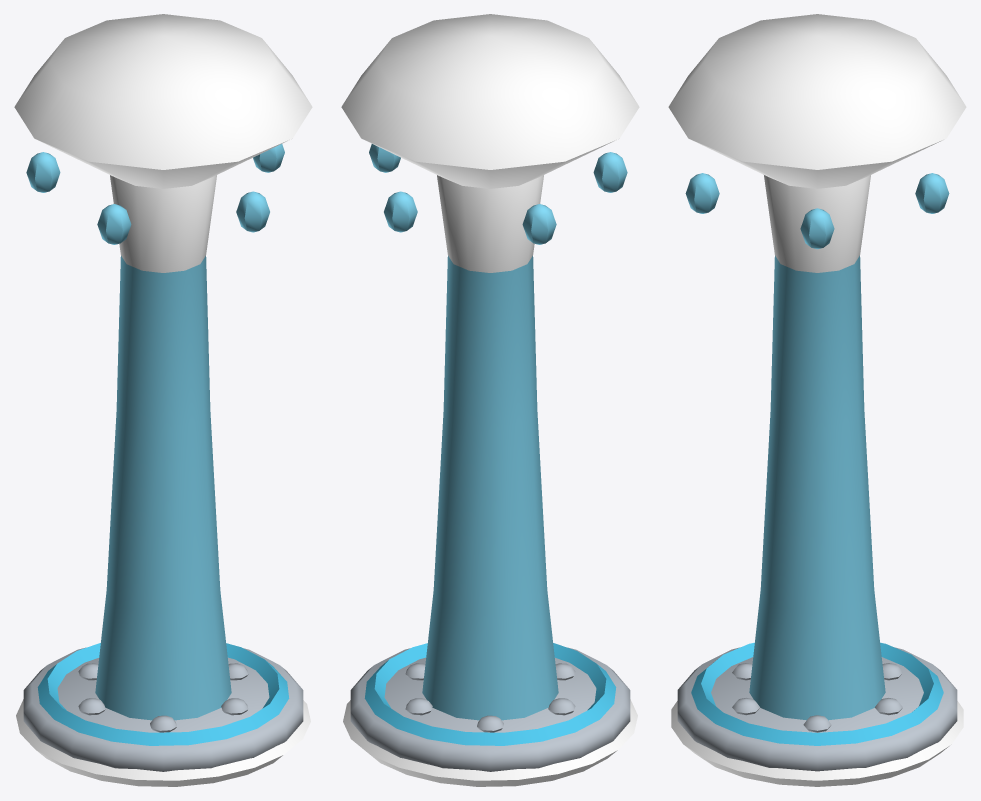
File: H27_Jet.fbx
3 renders of one model, left to right at view 1: azimuth 30°, elevation 25°; view 2: azimuth 150°, elevation 25°; view 3: azimuth 270°, elevation 25°, orthographic.
Parts seen in each view (by area): view 1: Jet, Static, Splash; view 2: Jet, Static, Splash; view 3: Jet, Static, Splash.
Part boxes in pixels (bbox=[...]): Jet: bbox=[14, 14, 312, 720]; Static: bbox=[23, 643, 303, 771]; Splash: bbox=[16, 699, 310, 786]; Jet: bbox=[341, 14, 639, 720]; Static: bbox=[350, 643, 630, 771]; Splash: bbox=[343, 699, 637, 786]; Jet: bbox=[668, 14, 966, 720]; Static: bbox=[677, 642, 957, 771]; Splash: bbox=[671, 701, 963, 786].
Size of the model in its own units: 2.1 by 5.39 by 2.1.
